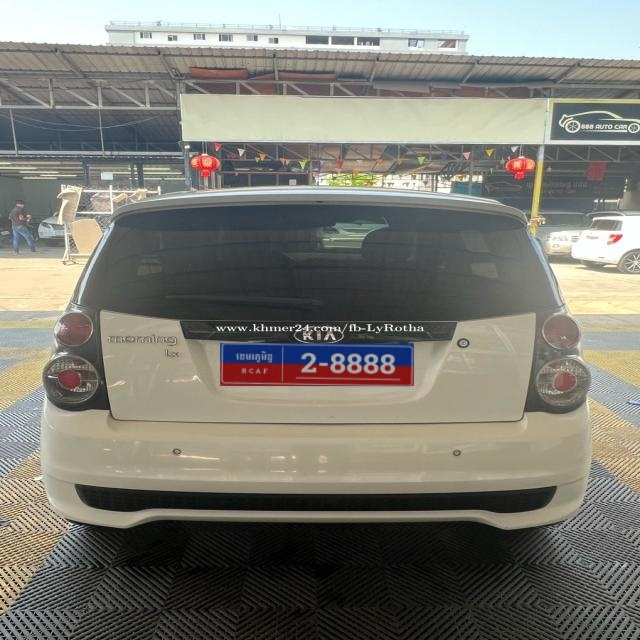Plate Number: (220, 344, 414, 386)
